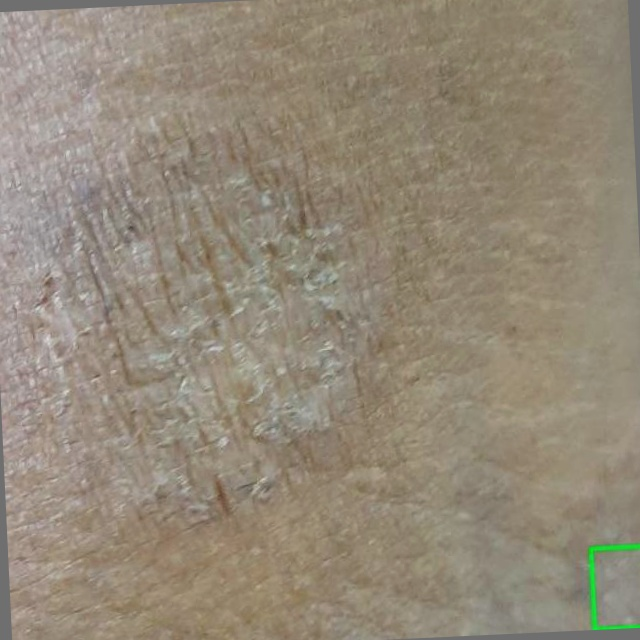Tinea Corporis: (591, 546, 639, 629)
